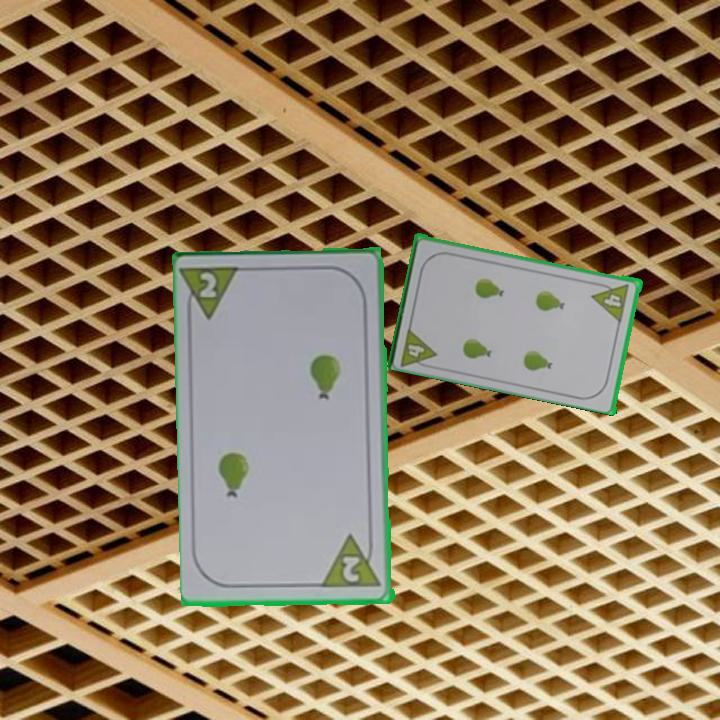2p: (181, 263, 246, 325), (321, 531, 385, 592)
4p: (397, 323, 440, 372), (589, 278, 632, 324)
